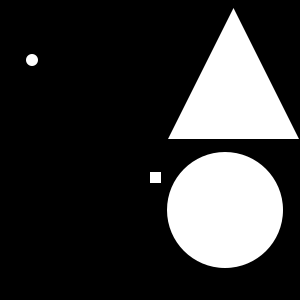circle: (150, 172, 161, 183)
rectangle: (167, 152, 283, 268), (26, 54, 38, 66)
triangle: (168, 8, 299, 139)
